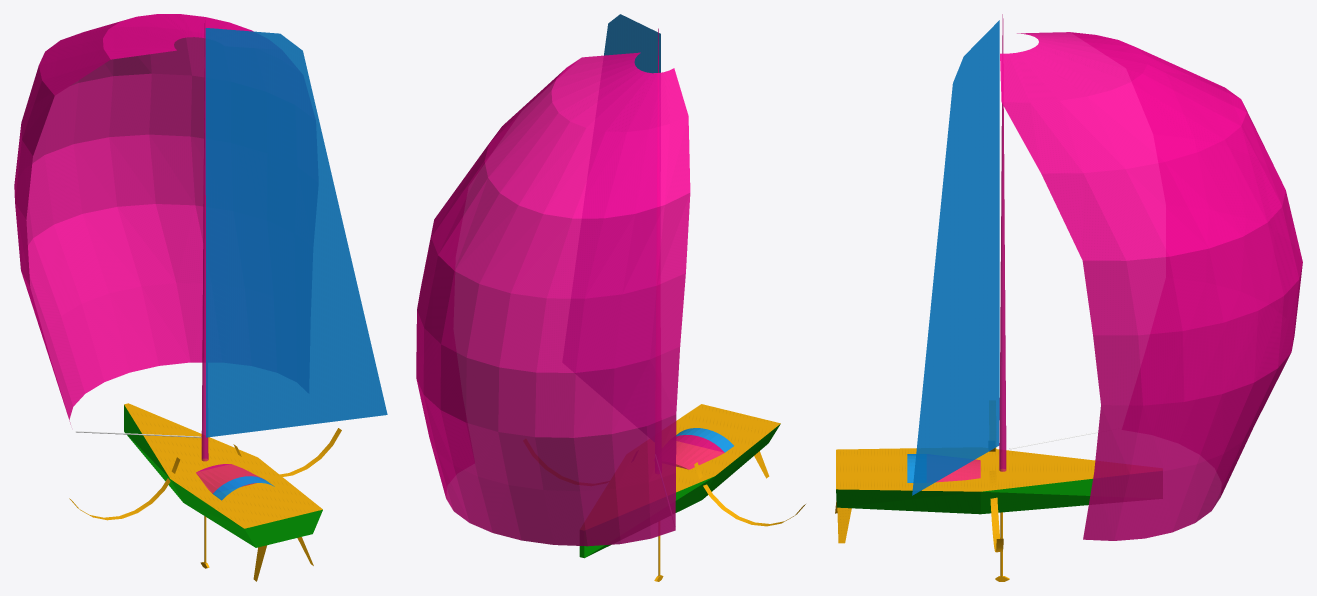
The model's file is IMOCA_SPI.dae.
3 renders of one model, left to right at view 1: azimuth 30°, elevation 25°; view 2: azimuth 150°, elevation 25°; view 3: azimuth 270°, elevation 25°, orthographic. The views are drawn at different scales.
Parts seen in each view (by area): view 1: SketchUp (×8); view 2: SketchUp (×6); view 3: SketchUp (×5).
Part boxes in pixels (x1,y1,x2,y2): SketchUp (×8): (14, 14, 387, 547); SketchUp (×6): (416, 14, 780, 558); SketchUp (×5): (836, 14, 1302, 540).
Size of the model in its own units: 77278 by 101354 by 135626.
